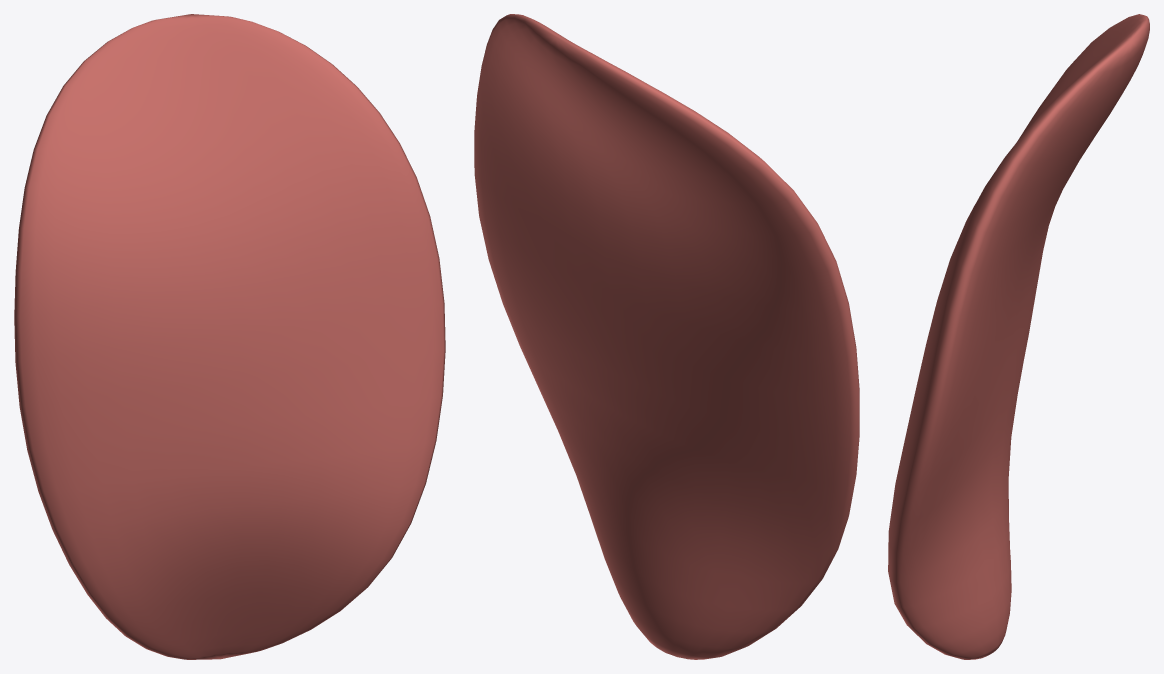
3 renders of one model, left to right at view 1: azimuth 30°, elevation 25°; view 2: azimuth 150°, elevation 25°; view 3: azimuth 270°, elevation 25°, orthographic. The views are drawn at different scales.
Parts seen in each view (by area): view 1: 右侧肩峰皮下囊; view 2: 右侧肩峰皮下囊; view 3: 右侧肩峰皮下囊.
Boxes of the visible parts, x1,y1,x2,y2 form: 右侧肩峰皮下囊: (14,14,445,659); 右侧肩峰皮下囊: (474,14,859,659); 右侧肩峰皮下囊: (888,14,1149,659).
Bounding box in the file's own units: 0.0445 × 0.0655 × 0.0247.
